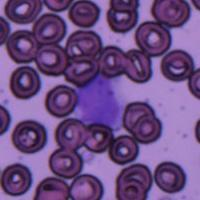M: (74, 72, 125, 125)
